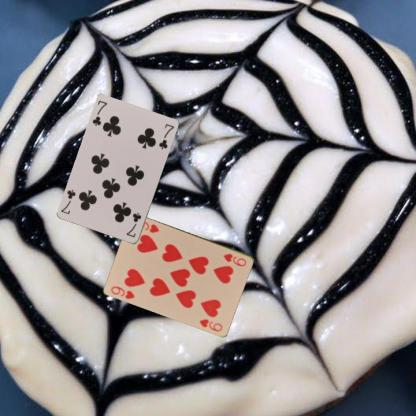7c: (90, 98, 108, 128), (124, 210, 142, 239)
9h: (221, 250, 248, 268), (109, 283, 136, 301)
